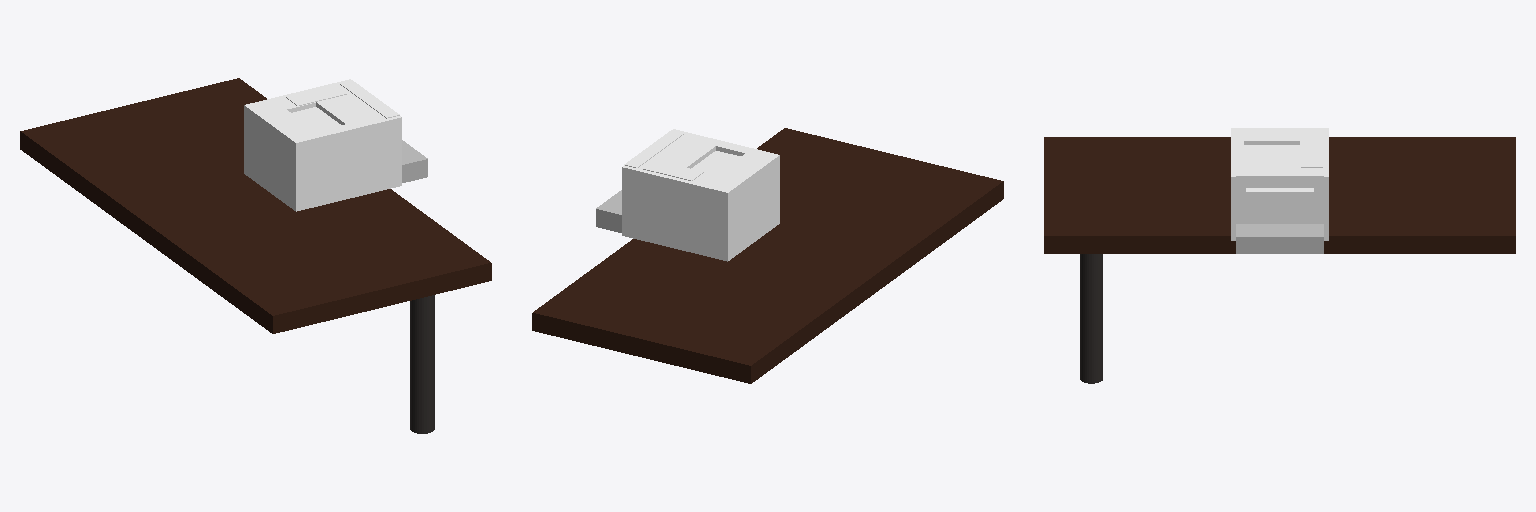
robot.urdf — table_printer:
<?xml version="1.0" ?>
<robot name="table_printer">
  <link name="base_link" />

    <link name="rack_open">
    <visual>
      <geometry>
        <mesh filename="package://mc_env_description/meshes/table_printer/rack_open.stl" />
      </geometry>
      <material name="Material.004">
        <color rgba="0.800000011920929 0.800000011920929 0.800000011920929 1" />
      </material>
    </visual>

  </link>
  <joint name="rack_open" type="fixed">
    <parent link="base_link" />
    <child link="rack_open" />
    <origin rpy="0.0 0.0 0.0" xyz="0.5149800181388855 0.0 0.8035644888877869" />
  </joint>

  <link name="table_foot4">
    <visual>
      <geometry>
        <mesh filename="package://mc_env_description/meshes/table_printer/table_foot4.stl" />
      </geometry>
      <material name="Material.003">
        <color rgba="0.252942830324173 0.237147718667984 0.23033183813095093 1" />
      </material>
    </visual>

  </link>
  <joint name="table_foot4" type="fixed">
    <parent link="base_link" />
    <child link="table_foot4" />
    <origin rpy="0.0 0.0 0.0" xyz="0.30000001192092896 0.800000011920929 0.3400000035762787" />
  </joint>

  <link name="table_foot3">
    <visual>
      <geometry>
        <mesh filename="package://mc_env_description/meshes/table_printer/table_foot3.stl" />
      </geometry>
      <material name="Material.003">
        <color rgba="0.252942830324173 0.237147718667984 0.23033183813095093 1" />
      </material>
    </visual>

  </link>
  <joint name="table_foot3" type="fixed">
    <parent link="base_link" />
    <child link="table_foot3" />
    <origin rpy="0.0 0.0 0.0" xyz="-0.30000001192092896 0.800000011920929 0.3400000035762787" />
  </joint>

  <link name="table_foot2">
    <visual>
      <geometry>
        <mesh filename="package://mc_env_description/meshes/table_printer/table_foot2.stl" />
      </geometry>
      <material name="Material.003">
        <color rgba="0.252942830324173 0.237147718667984 0.23033183813095093 1" />
      </material>
    </visual>

  </link>
  <joint name="table_foot2" type="fixed">
    <parent link="base_link" />
    <child link="table_foot2" />
    <origin rpy="0.0 0.0 0.0" xyz="-0.30000001192092896 -0.800000011920929 0.3400000035762787" />
  </joint>

  <link name="table_foot1">
    <visual>
      <geometry>
        <mesh filename="package://mc_env_description/meshes/table_printer/table_foot1.stl" />
      </geometry>
      <material name="Material.003">
        <color rgba="0.252942830324173 0.237147718667984 0.23033183813095093 1" />
      </material>
    </visual>

  </link>
  <joint name="table_foot1" type="fixed">
    <parent link="base_link" />
    <child link="table_foot1" />
    <origin rpy="0.0 0.0 0.0" xyz="0.30000001192092896 -0.800000011920929 0.3400000035762787" />
  </joint>

  <link name="ground">
    <visual>
      <geometry>
        <mesh filename="package://mc_env_description/meshes/table_printer/ground.stl" />
      </geometry>
      <material name="Material.001">
        <color rgba="0.6512458324432373 0.8000000715255737 0.5952509045600891 1" />
      </material>
    </visual>

  </link>
  <joint name="ground" type="fixed">
    <parent link="base_link" />
    <child link="ground" />
    <origin rpy="0.0 0.0 0.0" xyz="0.0 0.0 0.0" />
  </joint>

  <link name="table">
    <visual>
      <geometry>
        <mesh filename="package://mc_env_description/meshes/table_printer/table.stl" />
      </geometry>
      <material name="Material.002">
        <color rgba="0.2667607069015503 0.1705951988697052 0.12244077026844025 1" />
      </material>
    </visual>

  </link>
  <joint name="table" type="fixed">
    <parent link="base_link" />
    <child link="table" />
    <origin rpy="0.0 0.0 0.0" xyz="0.0 0.0 0.7200000286102295" />
  </joint>

  <link name="printer">
    <visual>
      <geometry>
        <mesh filename="package://mc_env_description/meshes/table_printer/printer.stl" />
      </geometry>
      <material name="default">
        <color rgba="1.0 1.0 1.0 1" />
      </material>
    </visual>

  </link>
  <joint name="printer" type="fixed">
    <parent link="base_link" />
    <child link="printer" />
    <origin rpy="0.0 0.0 0.0" xyz="0.4067094922065735 0.023292304947972298 0.9592243432998657" />
  </joint>

  <link name="rack">
    <visual>
      <geometry>
        <mesh filename="package://mc_env_description/meshes/table_printer/rack.stl" />
      </geometry>
      <material name="Material.004">
        <color rgba="0.800000011920929 0.800000011920929 0.800000011920929 1" />
      </material>
    </visual>

  </link>
  <joint name="rack" type="fixed">
    <parent link="base_link" />
    <child link="rack" />
    <origin rpy="0.0 0.0 0.0" xyz="0.3849766254425049 0.0 0.8035644888877869" />
  </joint>

</robot>

--- Render facts (derived) ---
Views: 3 orthographic renders of the robot side by side, from view 1: azimuth 30°, elevation 25°; view 2: azimuth 150°, elevation 25°; view 3: azimuth 270°, elevation 25°.
Robot: table_printer — 10 links, 9 joints (9 fixed); root link base_link; default pose: every joint at zero.
Links seen in each view (by area): view 1: table, printer, table_foot1, rack_open; view 2: table, printer, rack_open; view 3: table, printer, table_foot1, rack_open.
Boxes of the visible links, x1,y1,x2,y2 form: table: (20,78,491,333); printer: (244,79,401,211); table_foot1: (410,295,434,433); rack_open: (402,140,427,182); table: (532,128,1003,383); printer: (622,129,779,261); rack_open: (596,190,621,232); table: (1044,137,1515,253); printer: (1231,128,1328,240); table_foot1: (1080,254,1102,383); rack_open: (1236,224,1323,253).
Size in the robot's own frame: 1.18 by 2 by 1.07 metres.
Meshes: 9 distinct files referenced, 4 mesh visuals loaded (4 binary STL); not drawn: 5 (reference not matched to a file when rendering).